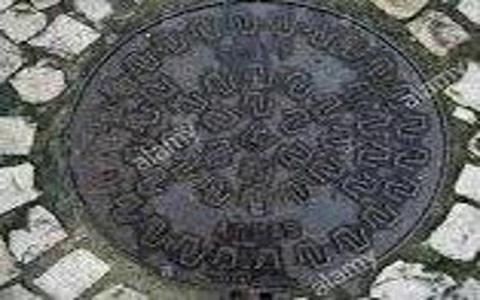proper manhole: (33, 1, 455, 295)
